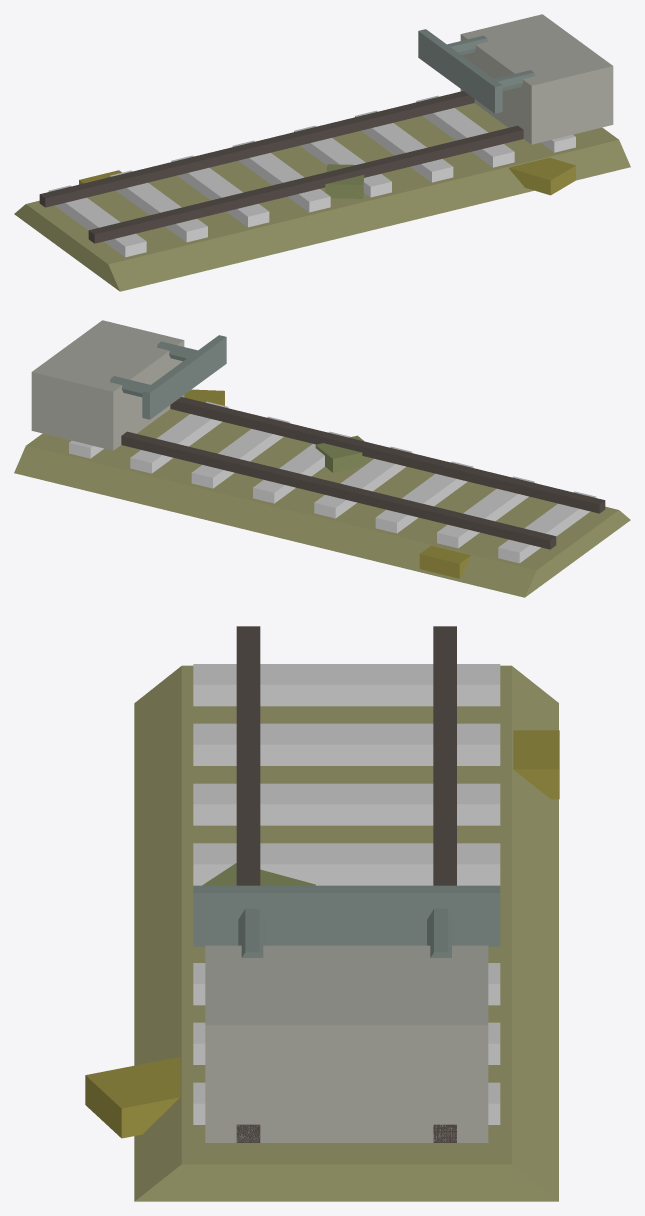
The model's file is SM_Via_Topera_v2_Maleza_LOD1.fbx.
3 renders of one model, top to bottom at view 1: azimuth 30°, elevation 25°; view 2: azimuth 150°, elevation 25°; view 3: azimuth 270°, elevation 25°, orthographic. The views are drawn at different scales.
Visible parts, largest first — view 1: SM_via_trazado_v37_LOD1; view 2: SM_via_trazado_v37_LOD1; view 3: SM_via_trazado_v37_LOD1.
Boxes of the visible parts, x1=… form: SM_via_trazado_v37_LOD1: x1=14, y1=14, x2=630, y2=291; SM_via_trazado_v37_LOD1: x1=14, y1=320, x2=630, y2=597; SM_via_trazado_v37_LOD1: x1=85, y1=626, x2=559, y2=1201.
Bounding box in the file's own units: 10 × 1.85 × 4.02.
